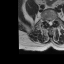CCS_normal: (49, 19, 51, 26)
LFS_normal: (53, 17, 55, 23)
LLS_normal: (51, 18, 53, 25)
RFS_stenosis: (44, 17, 47, 24)
RLS_normal: (47, 18, 49, 25)
